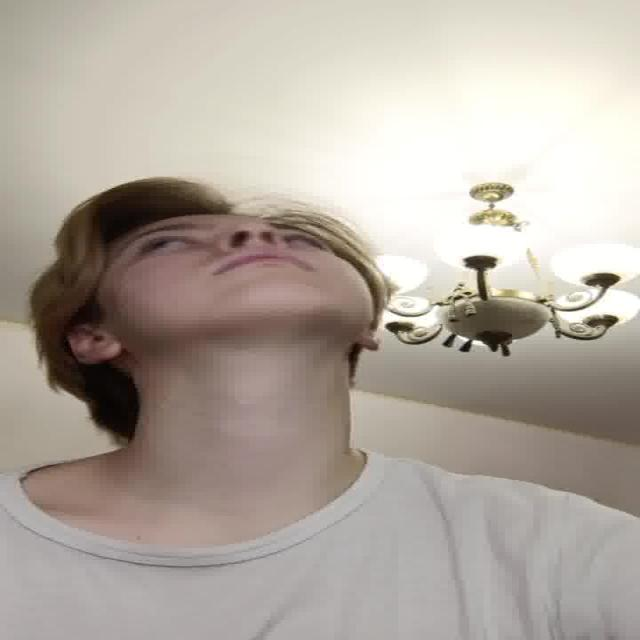earlobe: (60, 324, 122, 362)
